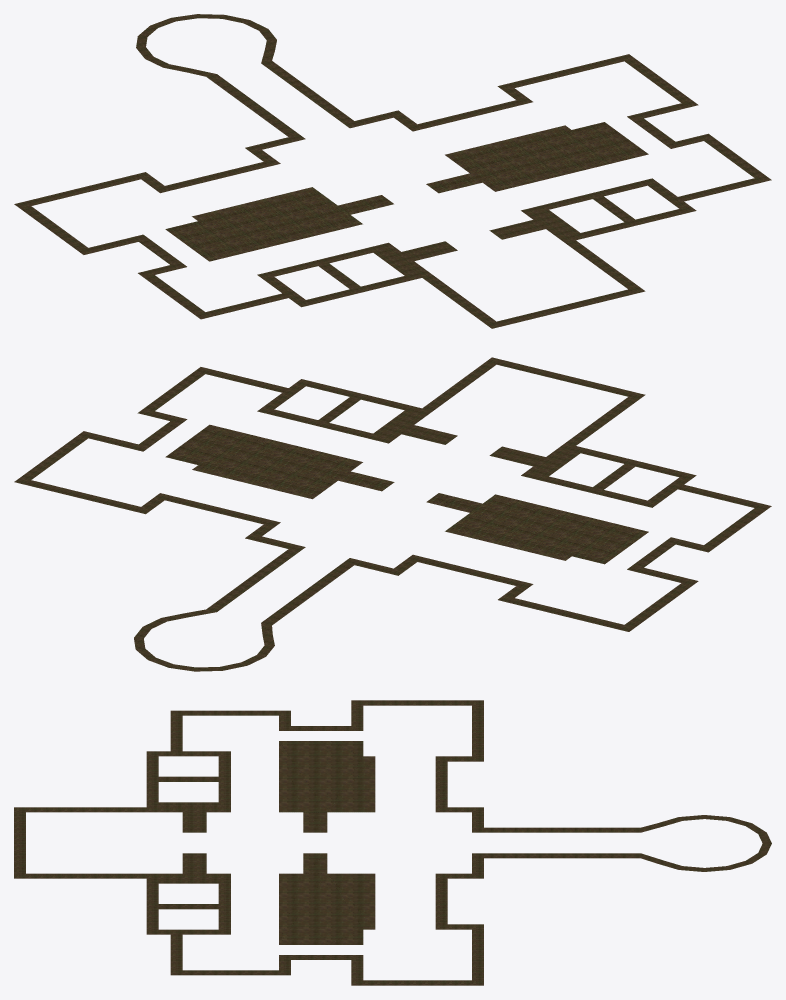
The model's file is USS Columbia Roof.fbx.
The picture shows the model from 3 angles, top to bottom: view 1: azimuth 30°, elevation 25°; view 2: azimuth 150°, elevation 25°; view 3: azimuth 270°, elevation 25°; orthographic projection. The views are drawn at different scales.
Visible parts, largest first — view 1: Starship Roof; view 2: Starship Roof; view 3: Starship Roof.
Boxes of the visible parts, <box> form: Starship Roof: <box>14,14,771,328</box>; Starship Roof: <box>14,357,771,671</box>; Starship Roof: <box>14,700,771,985</box>.
Size of the model in its own units: 5600 by 0.00102 by 6291.
